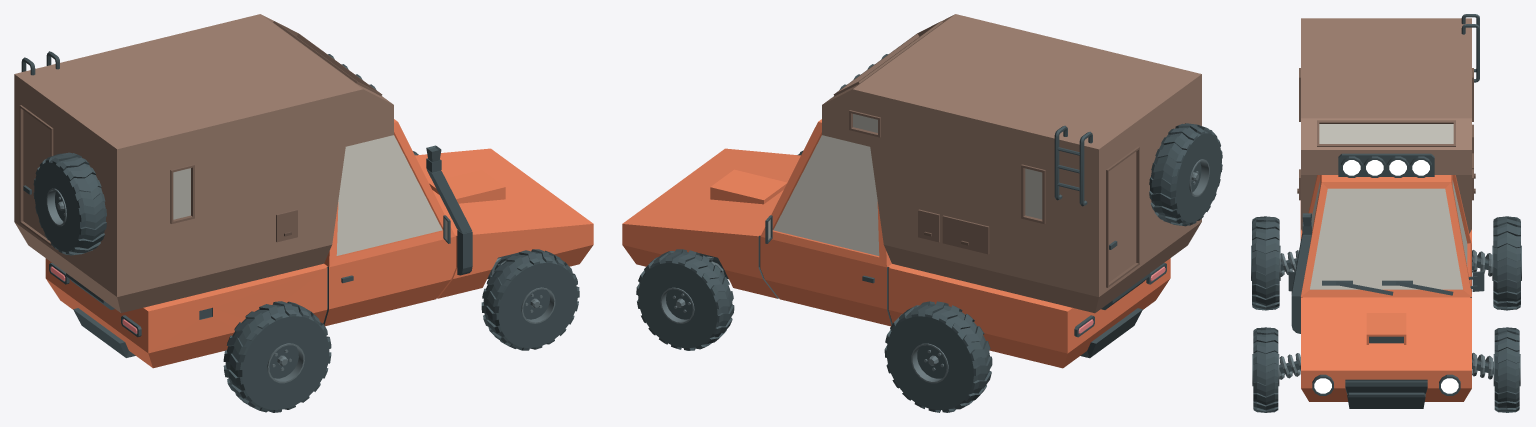
The model's file is low-poly_truck_drifter.glb.
The picture shows the model from 3 angles, left to right: view 1: azimuth 30°, elevation 25°; view 2: azimuth 150°, elevation 25°; view 3: azimuth 270°, elevation 25°; orthographic projection. The views are drawn at different scales.
Visible parts, largest first — view 1: Object_4, Object_12, Object_3, Object_7, Object_2, Object_5, Object_10, Object_8; view 2: Object_4, Object_12, Object_3, Object_7, Object_5, Object_2, Object_10, Object_8; view 3: Object_4, Object_12, Object_7, Object_3, Object_2, Object_8, Object_10, Object_5, Object_9.
Part boxes in pixels (x1,y1,x2,y2): Object_4: (14, 14, 393, 312); Object_12: (45, 119, 593, 368); Object_3: (21, 51, 579, 412); Object_7: (336, 135, 442, 255); Object_2: (23, 145, 518, 357); Object_5: (19, 21, 382, 246); Object_10: (46, 188, 555, 383); Object_8: (173, 168, 447, 239); Object_4: (822, 14, 1201, 313); Object_12: (622, 119, 1170, 368); Object_3: (636, 54, 1222, 412); Object_7: (773, 135, 879, 255); Object_5: (833, 21, 1139, 287); Object_2: (699, 215, 1166, 358); Object_10: (660, 159, 1209, 383); Object_8: (768, 114, 1042, 239); Object_4: (1301, 18, 1471, 233); Object_12: (1300, 175, 1471, 401); Object_7: (1310, 180, 1467, 289); Object_3: (1252, 14, 1520, 412); Object_2: (1279, 153, 1493, 408); Object_8: (1319, 124, 1453, 143); Object_10: (1251, 245, 1521, 386); Object_5: (1299, 68, 1473, 200); Object_9: (1314, 160, 1458, 393).
Bounding box in the file's own units: 5.75 × 3.1 × 3.16.
